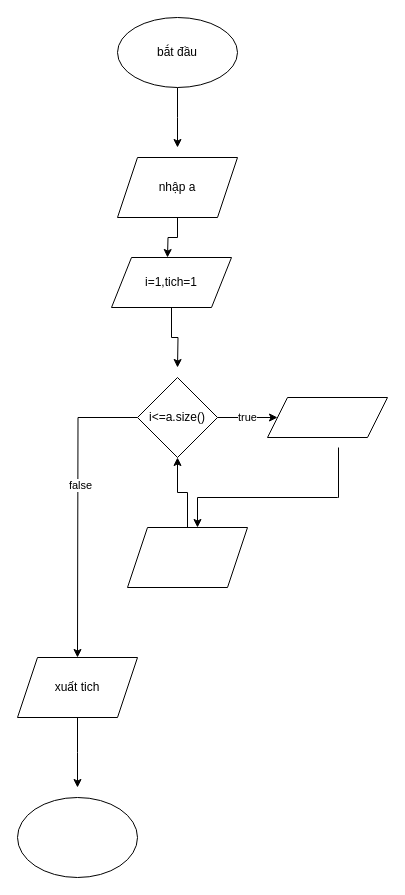
Image size: 405x895. Some labels were removed from this diagram. Here are the shapes that lost their labels. From the top down, the centre of each, then its label:
At point 327,417: "tich*=a[i]".
At point 187,557: "i=i+1".
At point 77,837: "kết thúc".
